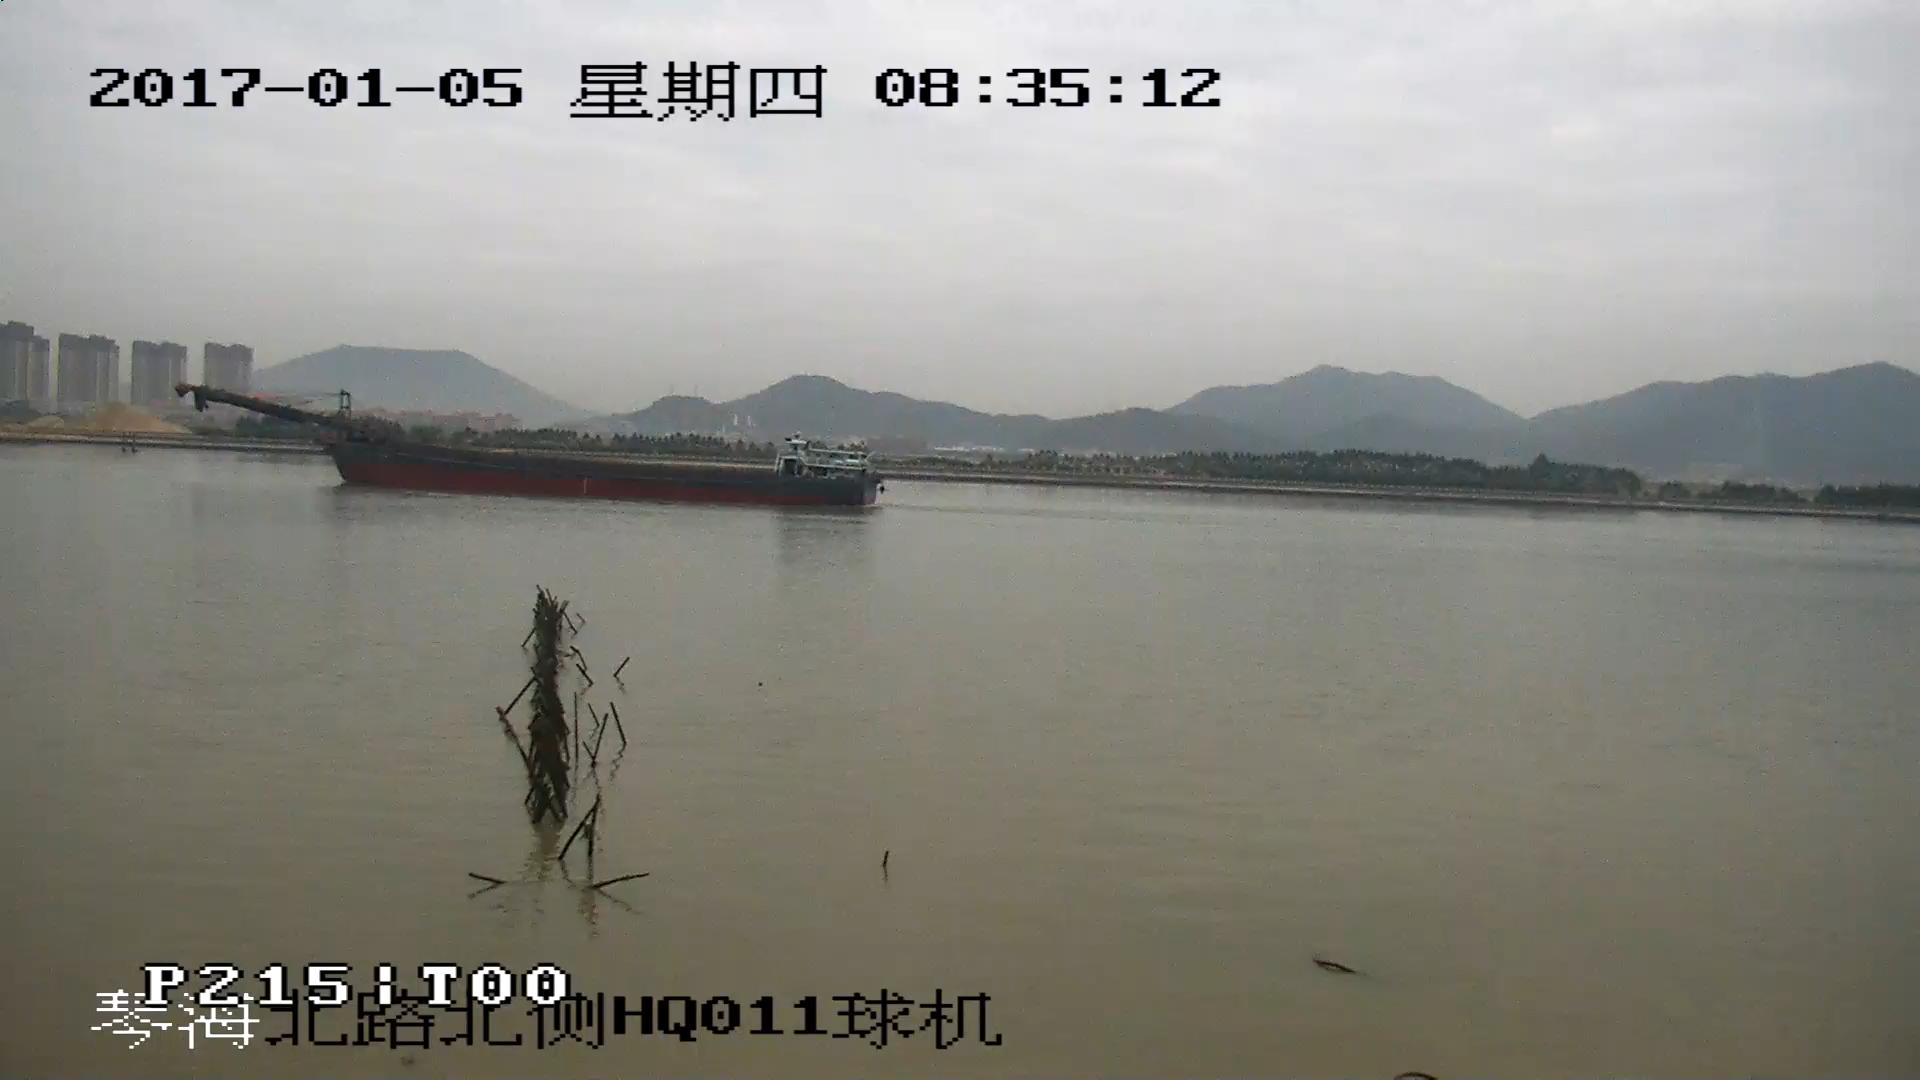bulk cargo carrier: (176, 385, 882, 510)
